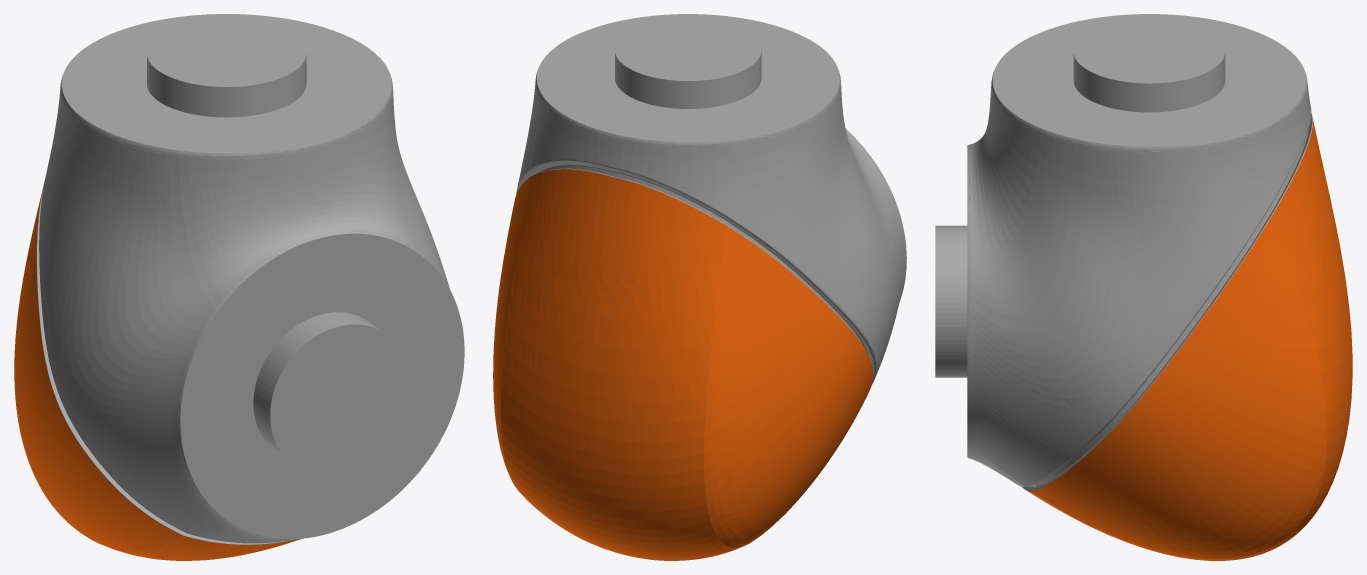
3 views of the same model, side by side, from view 1: azimuth 30°, elevation 25°; view 2: azimuth 150°, elevation 25°; view 3: azimuth 270°, elevation 25° (orthographic). The views are drawn at different scales.
Parts seen in each view (by area): view 1: ply_link6; view 2: ply_link6; view 3: ply_link6.
Boxes of the visible parts, left/top/right/bottom form: ply_link6: left=14, top=14, right=464, bottom=560; ply_link6: left=493, top=14, right=906, bottom=560; ply_link6: left=935, top=14, right=1352, bottom=560.
Size of the model in its own units: 132 by 177 by 137.
